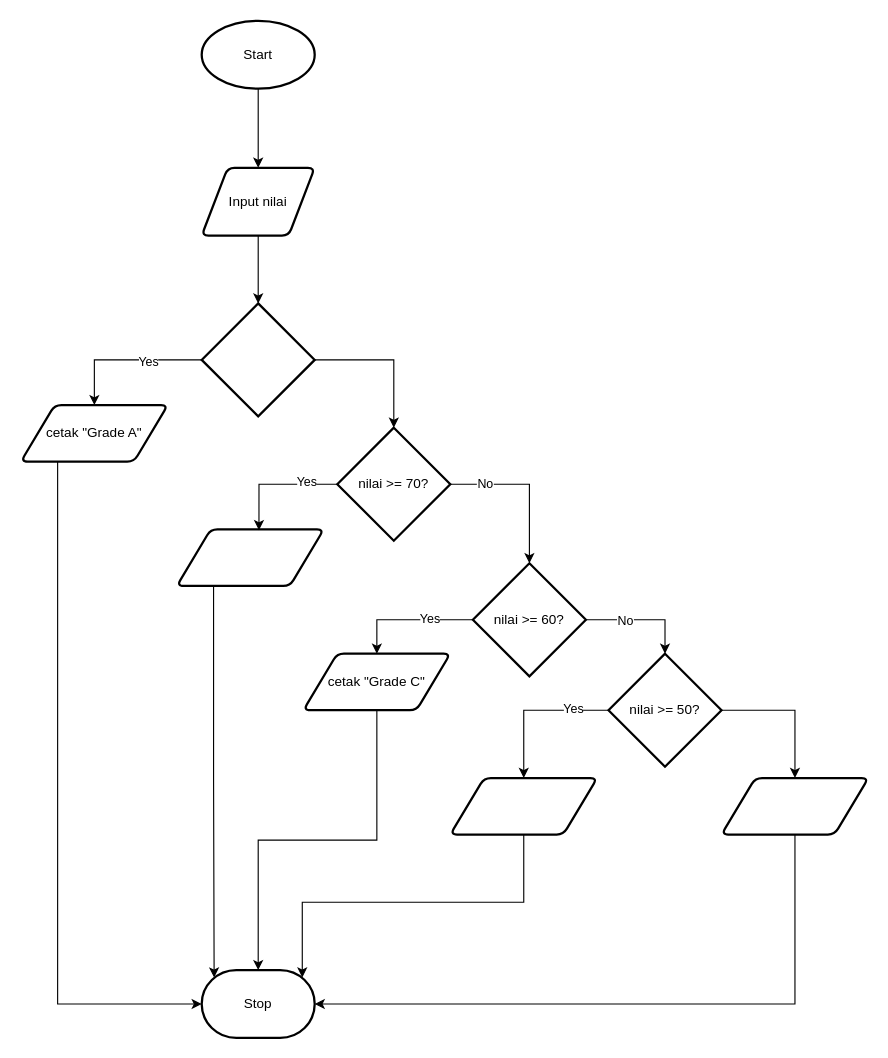
This 888x1058 diagram has some shape labels left out. Each missing label, with the centre of its shape:
cetak "Grade B": point 249,557
cetak "Grade D": point 523,805
cetak "Grade E": point 794,805
nilai >= 80?: point 257,359
